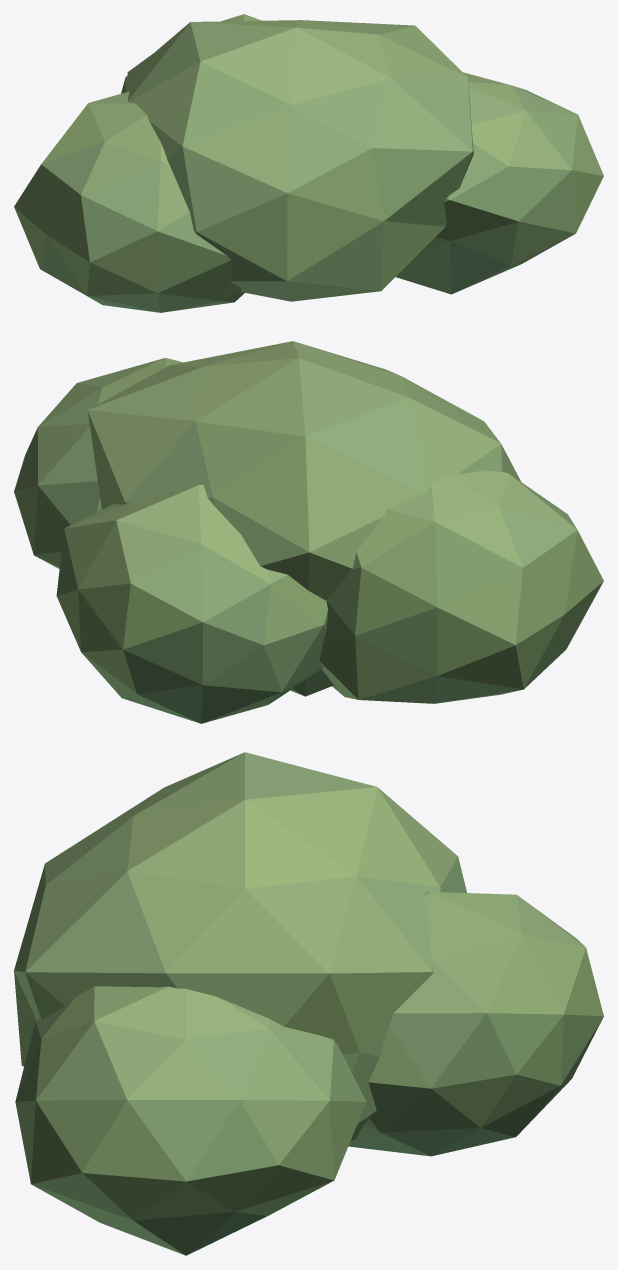
The model's file is pilot_bush.glb.
3 views of the same model, one above another, from view 1: azimuth 30°, elevation 25°; view 2: azimuth 150°, elevation 25°; view 3: azimuth 270°, elevation 25° (orthographic). The views are drawn at different scales.
Visible parts, largest first — view 1: pilot_bush; view 2: pilot_bush; view 3: pilot_bush.
Part boxes in pixels (left/top/right/bottom): pilot_bush: left=14, top=14, right=603, bottom=312; pilot_bush: left=14, top=341, right=603, bottom=723; pilot_bush: left=14, top=752, right=603, bottom=1255.
Bounding box in the file's own units: 1.55 × 0.7983 × 1.2.
